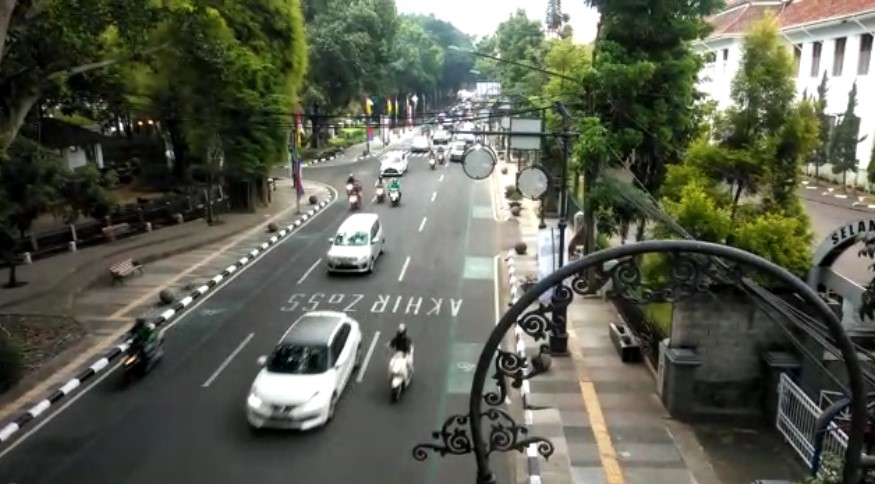mobil: (234, 304, 358, 434), (323, 213, 388, 278)
motor: (109, 318, 165, 386), (384, 323, 418, 399), (371, 177, 385, 202), (388, 178, 400, 203)
